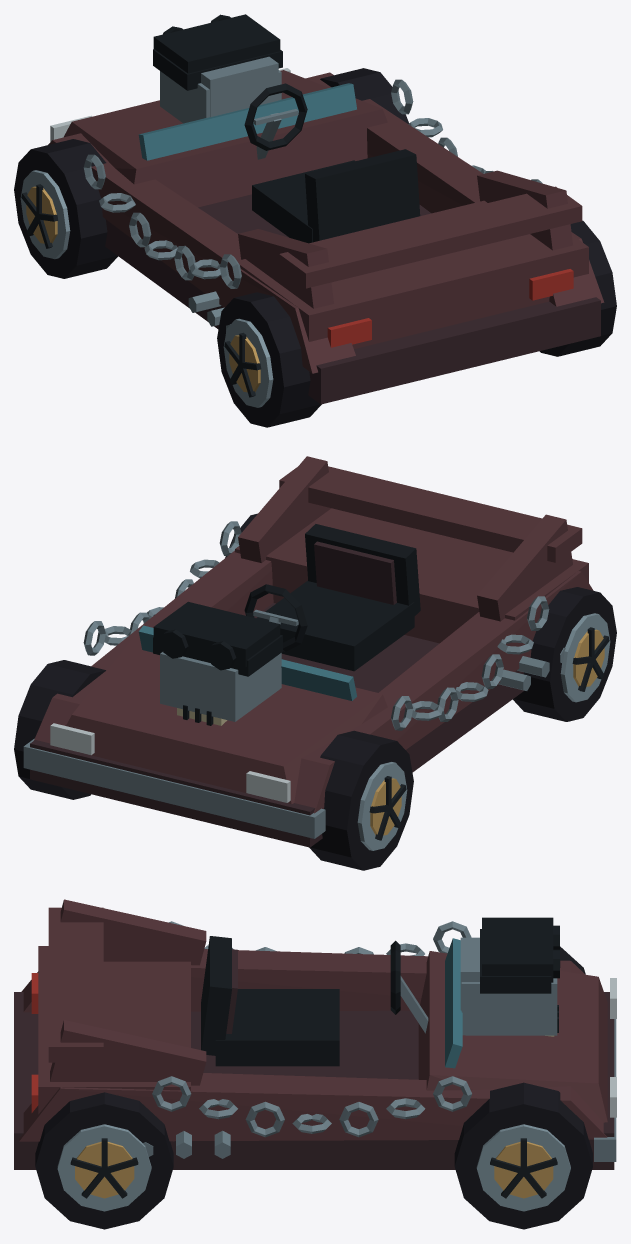
File: kart.glb
The picture shows the model from 3 angles, top to bottom: view 1: azimuth 30°, elevation 25°; view 2: azimuth 150°, elevation 25°; view 3: azimuth 270°, elevation 25°; orthographic projection. The views are drawn at different scales.
Visible parts, largest first — view 1: identity-interceptor-interceptor-fastback-and-supercharger, identity-interceptor-driver-cockpit, wheel-front-left, wheel-rear-left, identity-interceptor-motif-blower, identity-interceptor-motif-chains, wheel-rear-right, wheel-front-right; view 2: identity-interceptor-interceptor-fastback-and-supercharger, identity-interceptor-driver-cockpit, wheel-front-left, wheel-rear-left, identity-interceptor-motif-chains, identity-interceptor-motif-blower, wheel-front-right; view 3: identity-interceptor-interceptor-fastback-and-supercharger, wheel-front-right, wheel-rear-right, identity-interceptor-driver-cockpit, identity-interceptor-motif-chains, identity-interceptor-motif-blower.
Part boxes in pixels (box(x1,y1,x2,y2)): identity-interceptor-interceptor-fastback-and-supercharger: box(48, 49, 604, 404); identity-interceptor-driver-cockpit: box(244, 83, 420, 243); wheel-front-left: box(14, 139, 118, 278); wheel-rear-left: box(217, 292, 321, 427); identity-interceptor-motif-blower: box(153, 14, 280, 117); identity-interceptor-motif-chains: box(83, 79, 542, 288); wheel-rear-right: box(539, 220, 616, 356); wheel-front-right: box(320, 68, 408, 123); identity-interceptor-interceptor-fastback-and-supercharger: box(23, 456, 593, 847); identity-interceptor-driver-cockpit: box(244, 524, 420, 671); wheel-front-left: box(309, 730, 413, 870); wheel-rear-left: box(513, 587, 616, 721); identity-interceptor-motif-chains: box(83, 521, 549, 730); identity-interceptor-motif-blower: box(153, 601, 280, 670); wheel-front-right: box(14, 660, 105, 799); identity-interceptor-interceptor-fastback-and-supercharger: box(14, 899, 616, 1169); wheel-front-right: box(454, 1082, 592, 1229); wheel-rear-right: box(35, 1092, 173, 1229); identity-interceptor-driver-cockpit: box(201, 936, 428, 1066); identity-interceptor-motif-chains: box(152, 921, 471, 1137); identity-interceptor-motif-blower: box(460, 917, 559, 1010).
Bounding box in the file's own units: 2.07 × 1.13 × 2.96.
